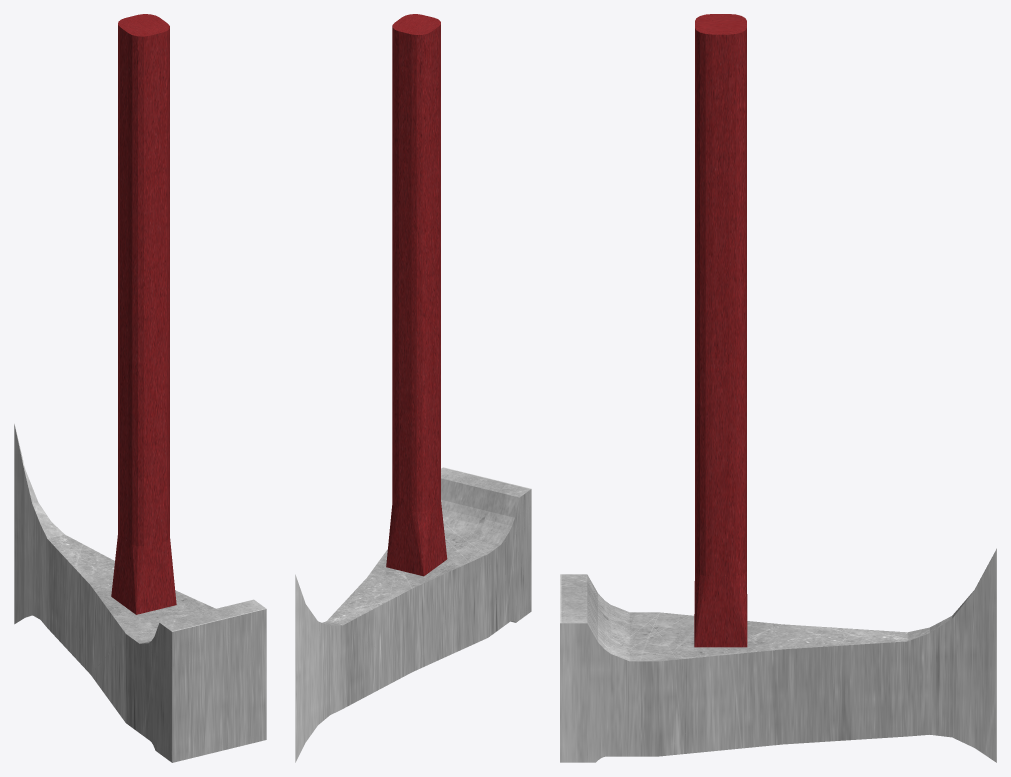
Rendered from Hammer.fbx.
3 renders of one model, left to right at view 1: azimuth 30°, elevation 25°; view 2: azimuth 150°, elevation 25°; view 3: azimuth 270°, elevation 25°, orthographic. The views are drawn at different scales.
Visible parts, largest first — view 1: Hammer, Handle.002; view 2: Hammer, Handle.002; view 3: Hammer, Handle.002.
Part boxes in pixels (x1,y1,x2,y2): Hammer: [14, 423, 266, 762]; Handle.002: [111, 14, 176, 614]; Hammer: [295, 467, 531, 762]; Handle.002: [386, 14, 447, 576]; Hammer: [560, 548, 996, 762]; Handle.002: [694, 14, 747, 647].
Bounding box in the file's own units: 9.01 × 63.18 × 33.86.
2 materials, 2 textured.
